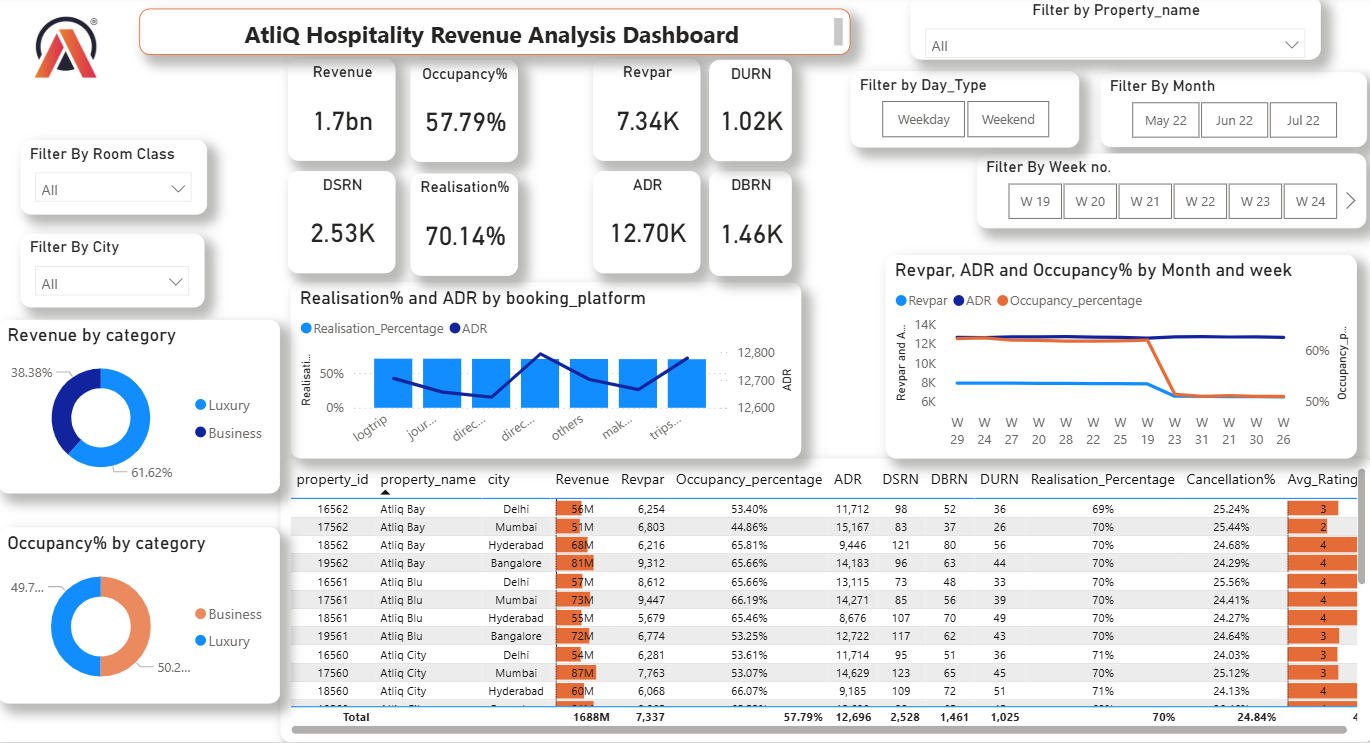

What the dashboard file says about the page in this screenshot:
{"tool":"powerbi","page":{"name":"Dashboard","canvas":[1280,694],"ordinal":0},"visuals":[{"type":"tableEx","fields":{"Values":["dim_hotels.property_id","dim_hotels.property_name","dim_hotels.city","Key_Measure.Revenue","Key_Measure.Revpar","Key_Measure.Occupancy_percentage","Key_Measure.ADR","Key_Measure.DSRN","Key_Measure.DBRN","Key_Measure.DURN","Key_Measure.Realisation_Percentage","Key_Measure.Cancellation%"]},"box":[262.8,430.2,1017.4,264],"z":0},{"type":"slicer","title":"Filter By City","fields":{"Values":["dim_hotels.city"]},"box":[20.9,220.9,170.9,68.6],"z":1000},{"type":"slicer","title":"Filter By Room Class","fields":{"Values":["dim_rooms.room_class"]},"box":[20.9,133.7,173.3,69.8],"z":2000},{"type":"slicer","title":"Filter By Month","fields":{"Values":["dim_date.mmm yy"]},"box":[1025.6,70.9,247.7,69.8],"z":3000},{"type":"slicer","title":"Filter By Week no.","fields":{"Values":["dim_date.week no"]},"box":[910.5,146.5,362.8,69.8],"z":4000},{"type":"card","title":"Revenue","fields":{"Values":["Key_Measure.Revenue"]},"box":[269.3,58.4,100,95.3],"z":5000},{"type":"donutChart","title":"Occupancy% by category","fields":{"Category":["dim_hotels.category"],"Y":["Key_Measure.Occupancy_percentage"]},"box":[0,494.2,262.8,164],"z":6000},{"type":"lineChart","title":"Revpar, ADR and Occupancy% by Month and week ","fields":{"Y":["Key_Measure.Revpar","Key_Measure.ADR"],"Category":["dim_date.week no"],"Y2":["Key_Measure.Occupancy_percentage"]},"box":[825.6,240.7,438.4,189.5],"z":7000},{"type":"lineStackedColumnComboChart","title":"Realisation% and ADR by booking_platform","fields":{"Category":["fact_bookings.booking_platform"],"Y":["Key_Measure.Realisation_Percentage"],"Y2":["Key_Measure.ADR"]},"box":[272.1,266.3,475.6,164],"z":8000},{"type":"card","title":"DSRN","fields":{"Values":["Key_Measure.DSRN"]},"box":[269.3,163,100,95.3],"z":9000},{"type":"card","title":"Revpar","fields":{"Values":["Key_Measure.Revpar"]},"box":[553,58.4,100,95.3],"z":10000},{"type":"card","title":"Occupancy%","fields":{"Values":["Key_Measure.Occupancy_percentage"]},"box":[383.7,59.3,100,95.3],"z":11000},{"type":"card","title":"ADR","fields":{"Values":["Key_Measure.ADR"]},"box":[553,163,100,95.3],"z":12000},{"type":"card","title":"Realisation%","fields":{"Values":["Key_Measure.Realisation_Percentage"]},"box":[383.7,165.1,100,95.3],"z":13000},{"type":"slicer","title":"Filter by Day_Type","fields":{"Values":["dim_date.week_day"]},"box":[793,69.8,212.8,70.9],"z":14000},{"type":"donutChart","fields":{"Y":["Key_Measure.Revenue"],"Category":["dim_hotels.category"]},"box":[0,301.2,262.8,161.6],"z":15000},{"type":"textbox","box":[131.4,11.6,661.6,43],"z":16000},{"type":"card","title":"DBRN","fields":{"Values":["Key_Measure.DBRN"]},"box":[661.6,162.8,76.7,97.7],"z":17000},{"type":"card","title":"DURN","fields":{"Values":["Key_Measure.DURN"]},"box":[661.6,59.3,76.7,94.2],"z":18000},{"type":"slicer","title":"Filter by Property_name","fields":{"Values":["dim_hotels.property_name"]},"box":[848.8,0,381.4,59.3],"z":19000},{"type":"image","box":[29.1,11.6,69.8,70.9],"z":19001}]}

Visuals, with their boxes in screenshot pixels (x1, y1, x2, y2), scaled from the page's 1280x694 canvas onto the 1370x743 screenshot:
tableEx - dim_hotels.property_id x dim_hotels.property_name: 281, 461, 1369, 742
"Filter By City" slicer: 22, 236, 205, 310
"Filter By Room Class" slicer: 22, 143, 208, 218
"Filter By Month" slicer: 1098, 76, 1363, 151
"Filter By Week no." slicer: 975, 157, 1363, 232
"Revenue" card: 288, 63, 395, 165
"Occupancy% by category" donutChart: 0, 529, 281, 705
"Revpar, ADR and Occupancy% by Month and week " lineChart: 884, 258, 1353, 461
"Realisation% and ADR by booking_platform" lineStackedColumnComboChart: 291, 285, 800, 461
"DSRN" card: 288, 175, 395, 277
"Revpar" card: 592, 63, 699, 165
"Occupancy%" card: 411, 63, 518, 166
"ADR" card: 592, 175, 699, 277
"Realisation%" card: 411, 177, 518, 279
"Filter by Day_Type" slicer: 849, 75, 1077, 151
donutChart - Key_Measure.Revenue x dim_hotels.category: 0, 322, 281, 495
textbox: 141, 12, 849, 58
"DBRN" card: 708, 174, 790, 279
"DURN" card: 708, 63, 790, 164
"Filter by Property_name" slicer: 908, 0, 1317, 63
image: 31, 12, 106, 88
